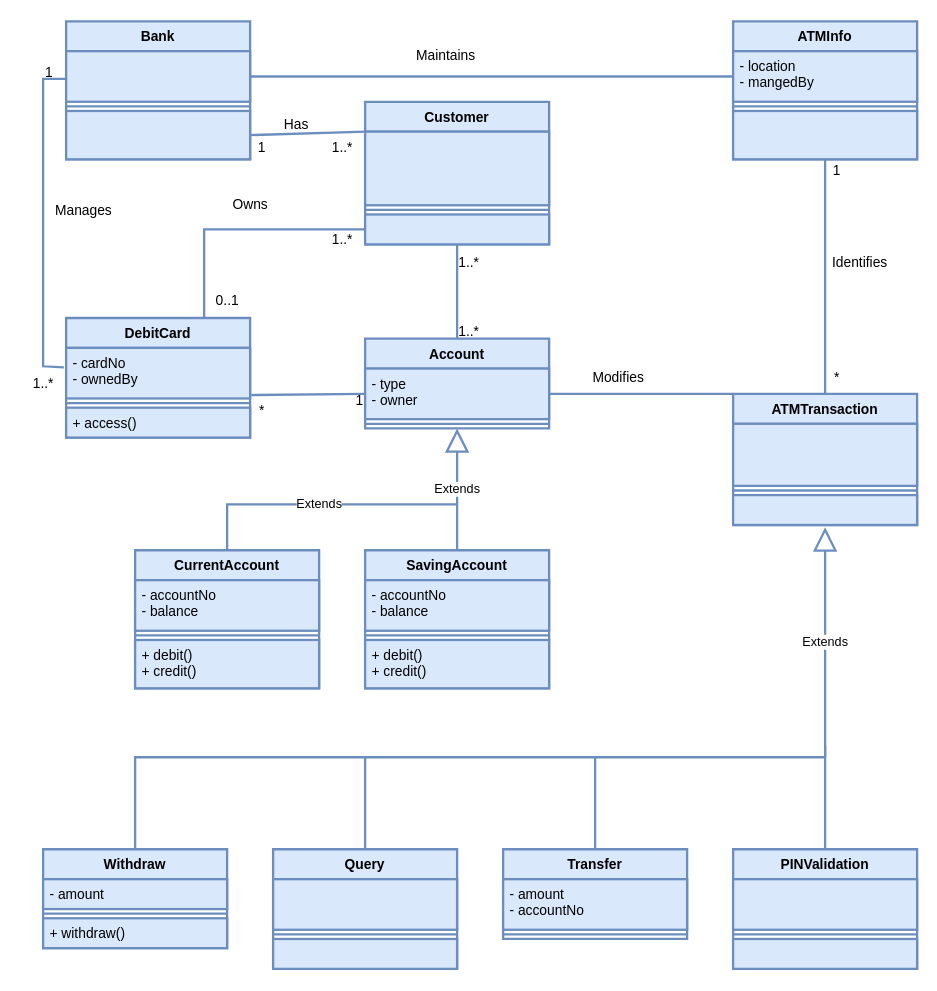
Some shapes in this 937 by 991 pixel diagram are drawn without their labels. The shapes that lost their labels are listed below. From the top down, each one's centre as x and y in pixels, then its label:
the point at 157,75: - code - address
the point at 157,134: + manages() + maintains()
the point at 824,134: - identifies() - transactions()
the point at 456,168: - name - address - dob
the point at 456,229: + owns()
the point at 824,454: - transactionsID - date - type
the point at 824,509: + modifies()
the point at 364,903: - queryID - type
the point at 824,903: - oldPIN - newPIN
the point at 364,953: + processing()
the point at 824,953: + pinChange()
